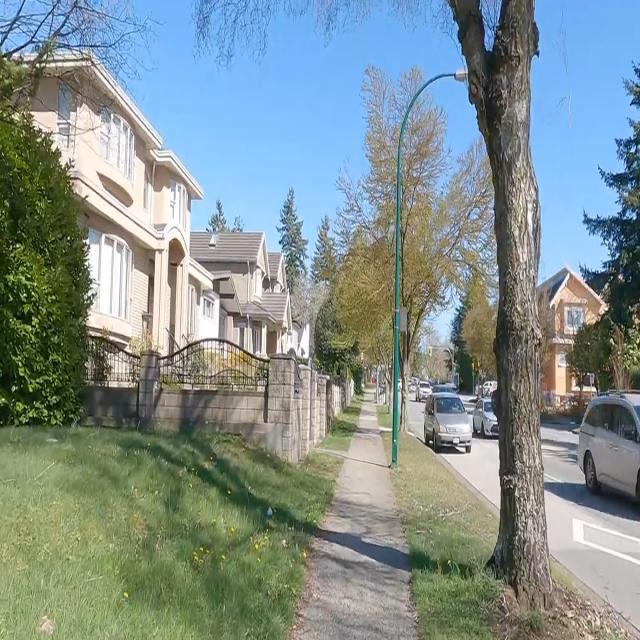Automobile: (577, 391, 639, 501), (424, 394, 471, 451), (473, 398, 497, 437), (416, 383, 431, 401)
Road: (544, 443, 639, 629), (546, 491, 639, 618), (439, 436, 499, 510), (441, 437, 498, 507), (544, 429, 581, 484), (409, 401, 424, 442)
Sidewalk: (295, 403, 415, 639)
